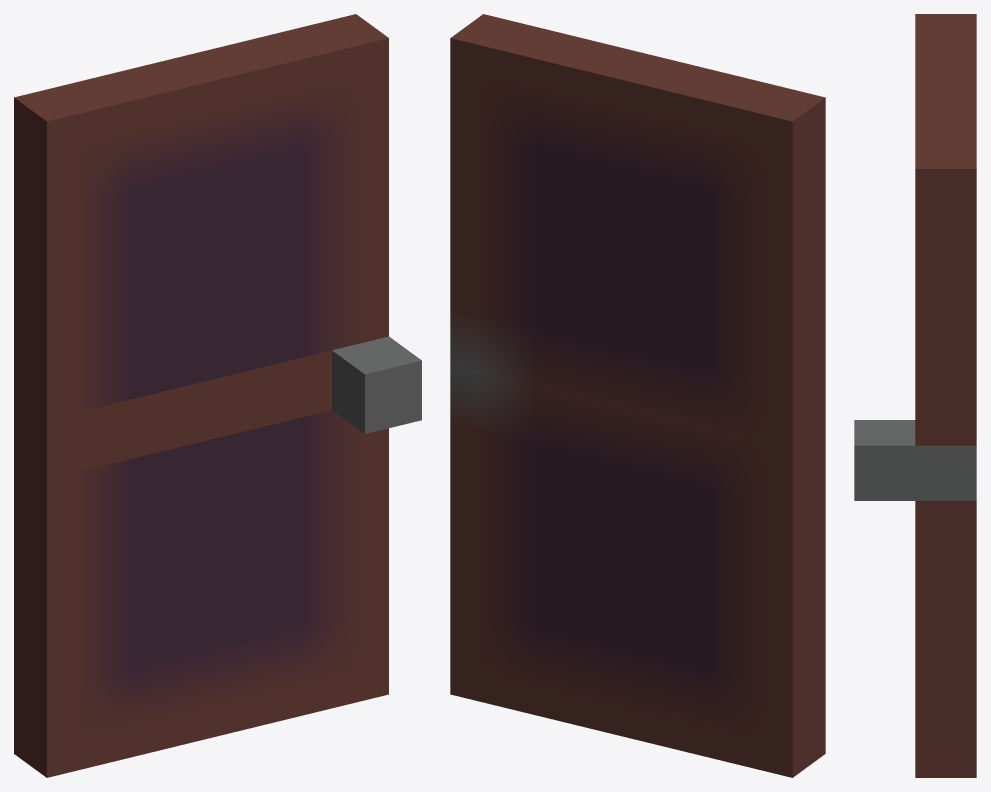
File: door_1.fbx
3 renders of one model, left to right at view 1: azimuth 30°, elevation 25°; view 2: azimuth 150°, elevation 25°; view 3: azimuth 270°, elevation 25°, orthographic. The views are drawn at different scales.
Visible parts, largest first — view 1: door_1; view 2: door_1; view 3: door_1.
Boxes of the visible parts, left/top/right/bottom form: door_1: left=14, top=14, right=421, bottom=777; door_1: left=450, top=14, right=825, bottom=777; door_1: left=854, top=14, right=976, bottom=777.
Bounding box in the file's own units: 6 × 11 × 2.
1 material, 1 textured.
